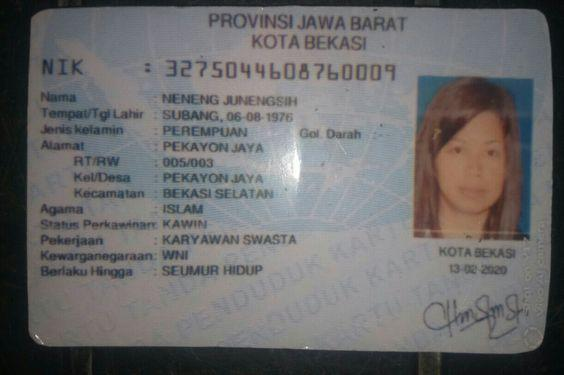ID-card: (30, 9, 547, 344)
